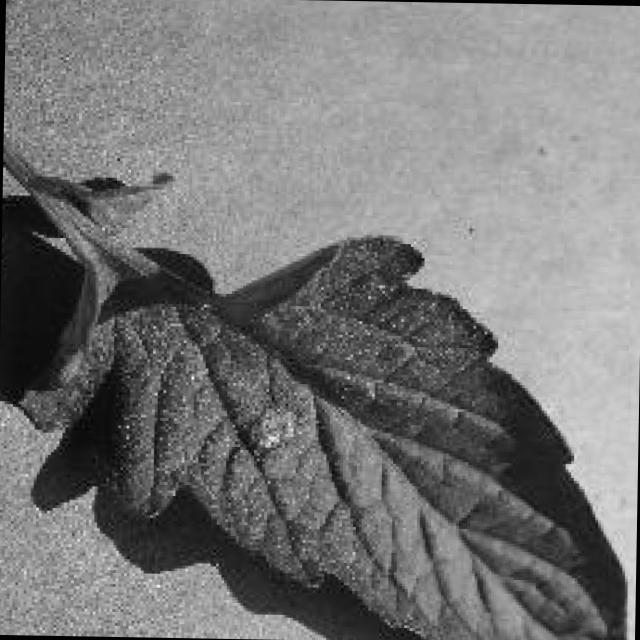leaf blight: (3, 114, 630, 640)
